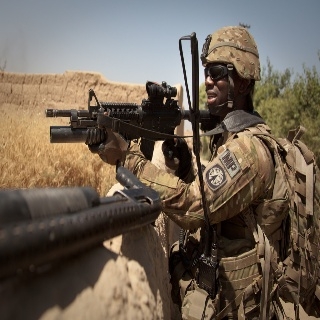rifle: (45, 81, 217, 175)
